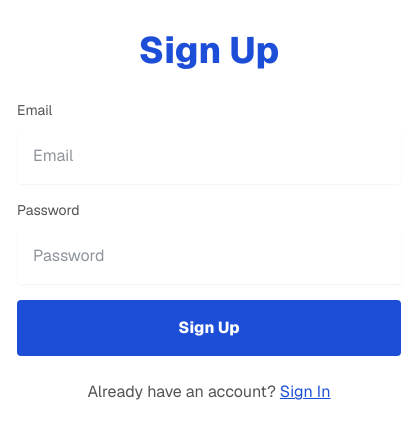
Scenario: SignUp page › shows the signIn error when signIn fails after a successful sign-up
In the field labelled "Email": (209,156) [17,128,401,184], type "a@b.com"
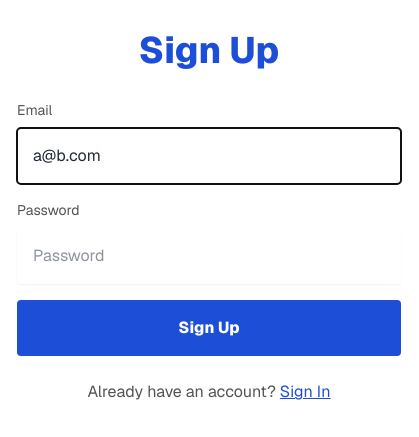
In the password field labelled "Password": (209,256) [17,228,401,284], type "ChrisIsTheBest42!"
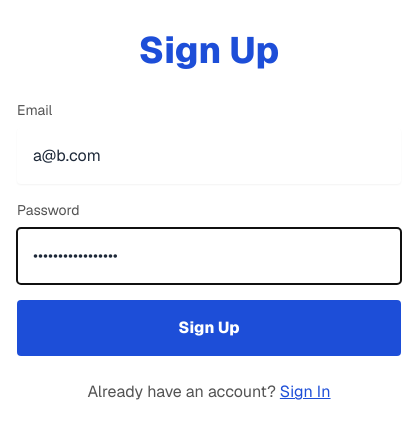
Click the button "Sign Up": (209,328) [17,300,401,356]
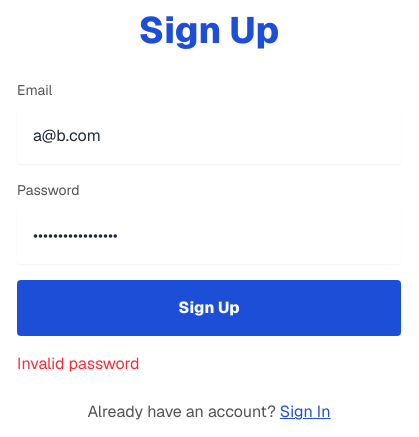
Now the text "Invalid password" is shown, box [17,353,140,374]
